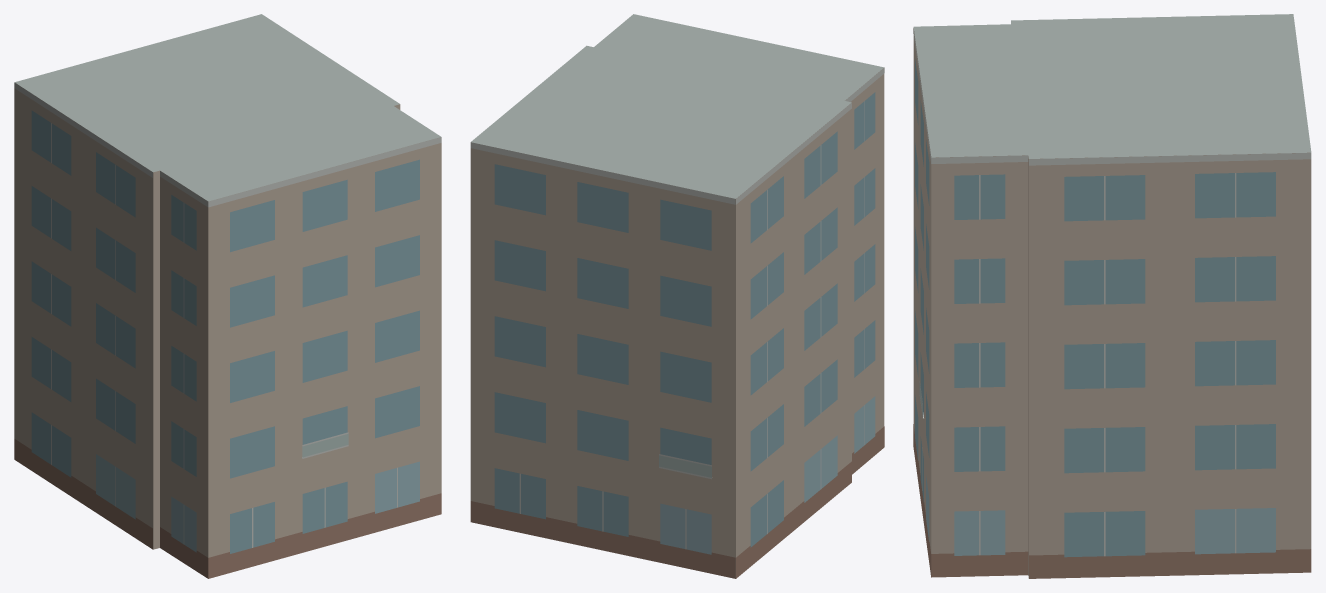
Rendered from survey-upis-32907277.glb.
3 views of the same model, side by side, from view 1: azimuth 30°, elevation 25°; view 2: azimuth 150°, elevation 25°; view 3: azimuth 270°, elevation 25° (orthographic). The views are drawn at different scales.
Visible parts, largest first — view 1: survey-upis-32907277.tmp; view 2: survey-upis-32907277.tmp; view 3: survey-upis-32907277.tmp.
Boxes of the visible parts, bbox=[...] form: survey-upis-32907277.tmp: bbox=[14, 14, 441, 578]; survey-upis-32907277.tmp: bbox=[470, 14, 884, 578]; survey-upis-32907277.tmp: bbox=[913, 14, 1311, 578].
Size of the model in its own units: 11.49 by 15.5 by 13.33.
